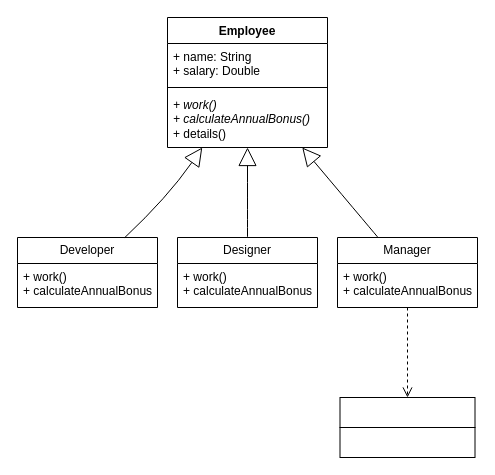
Image size: 495x475. Some labels were removed from this diagram. Here are the shapes that lost their labels. From the top down, the centre of each, then its label:
At [407,412]: "«interface» Evaluable".
At [407,442]: "+ evaluatePerformance()".
